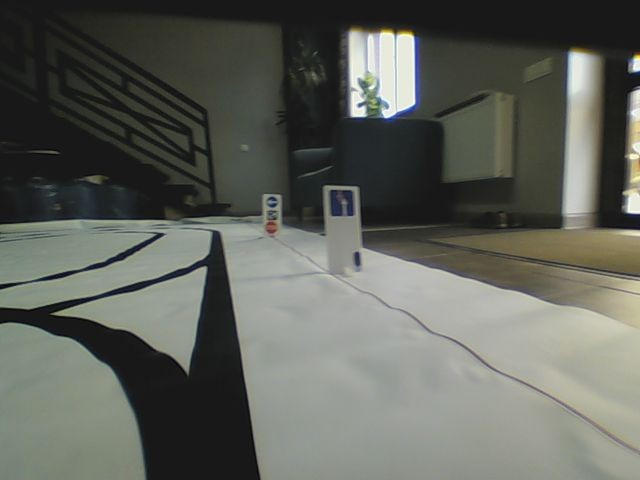priority_movement: (328, 187, 355, 219)
